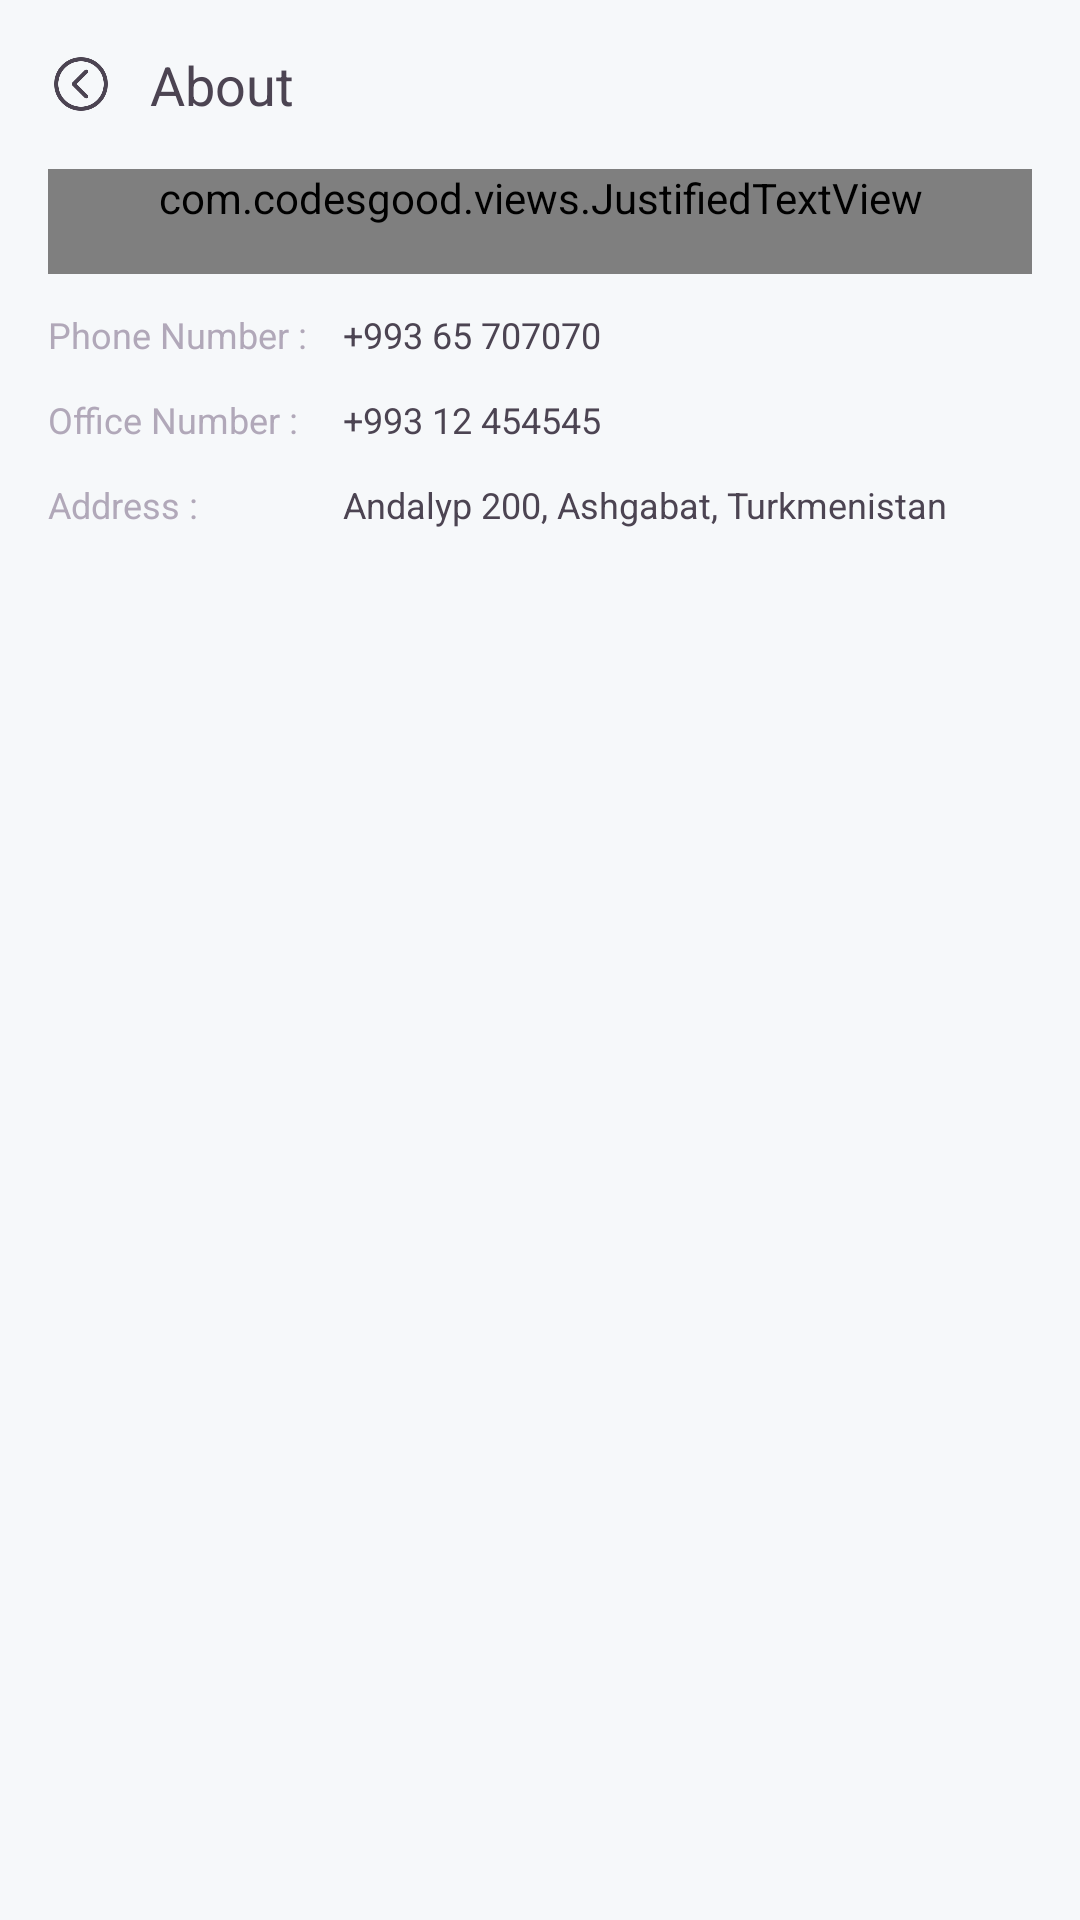

Screen size 1080px×1920px. Icon name, then its box in pixels as (x1,y1,x2,y2):
back: (54,57,108,111)
